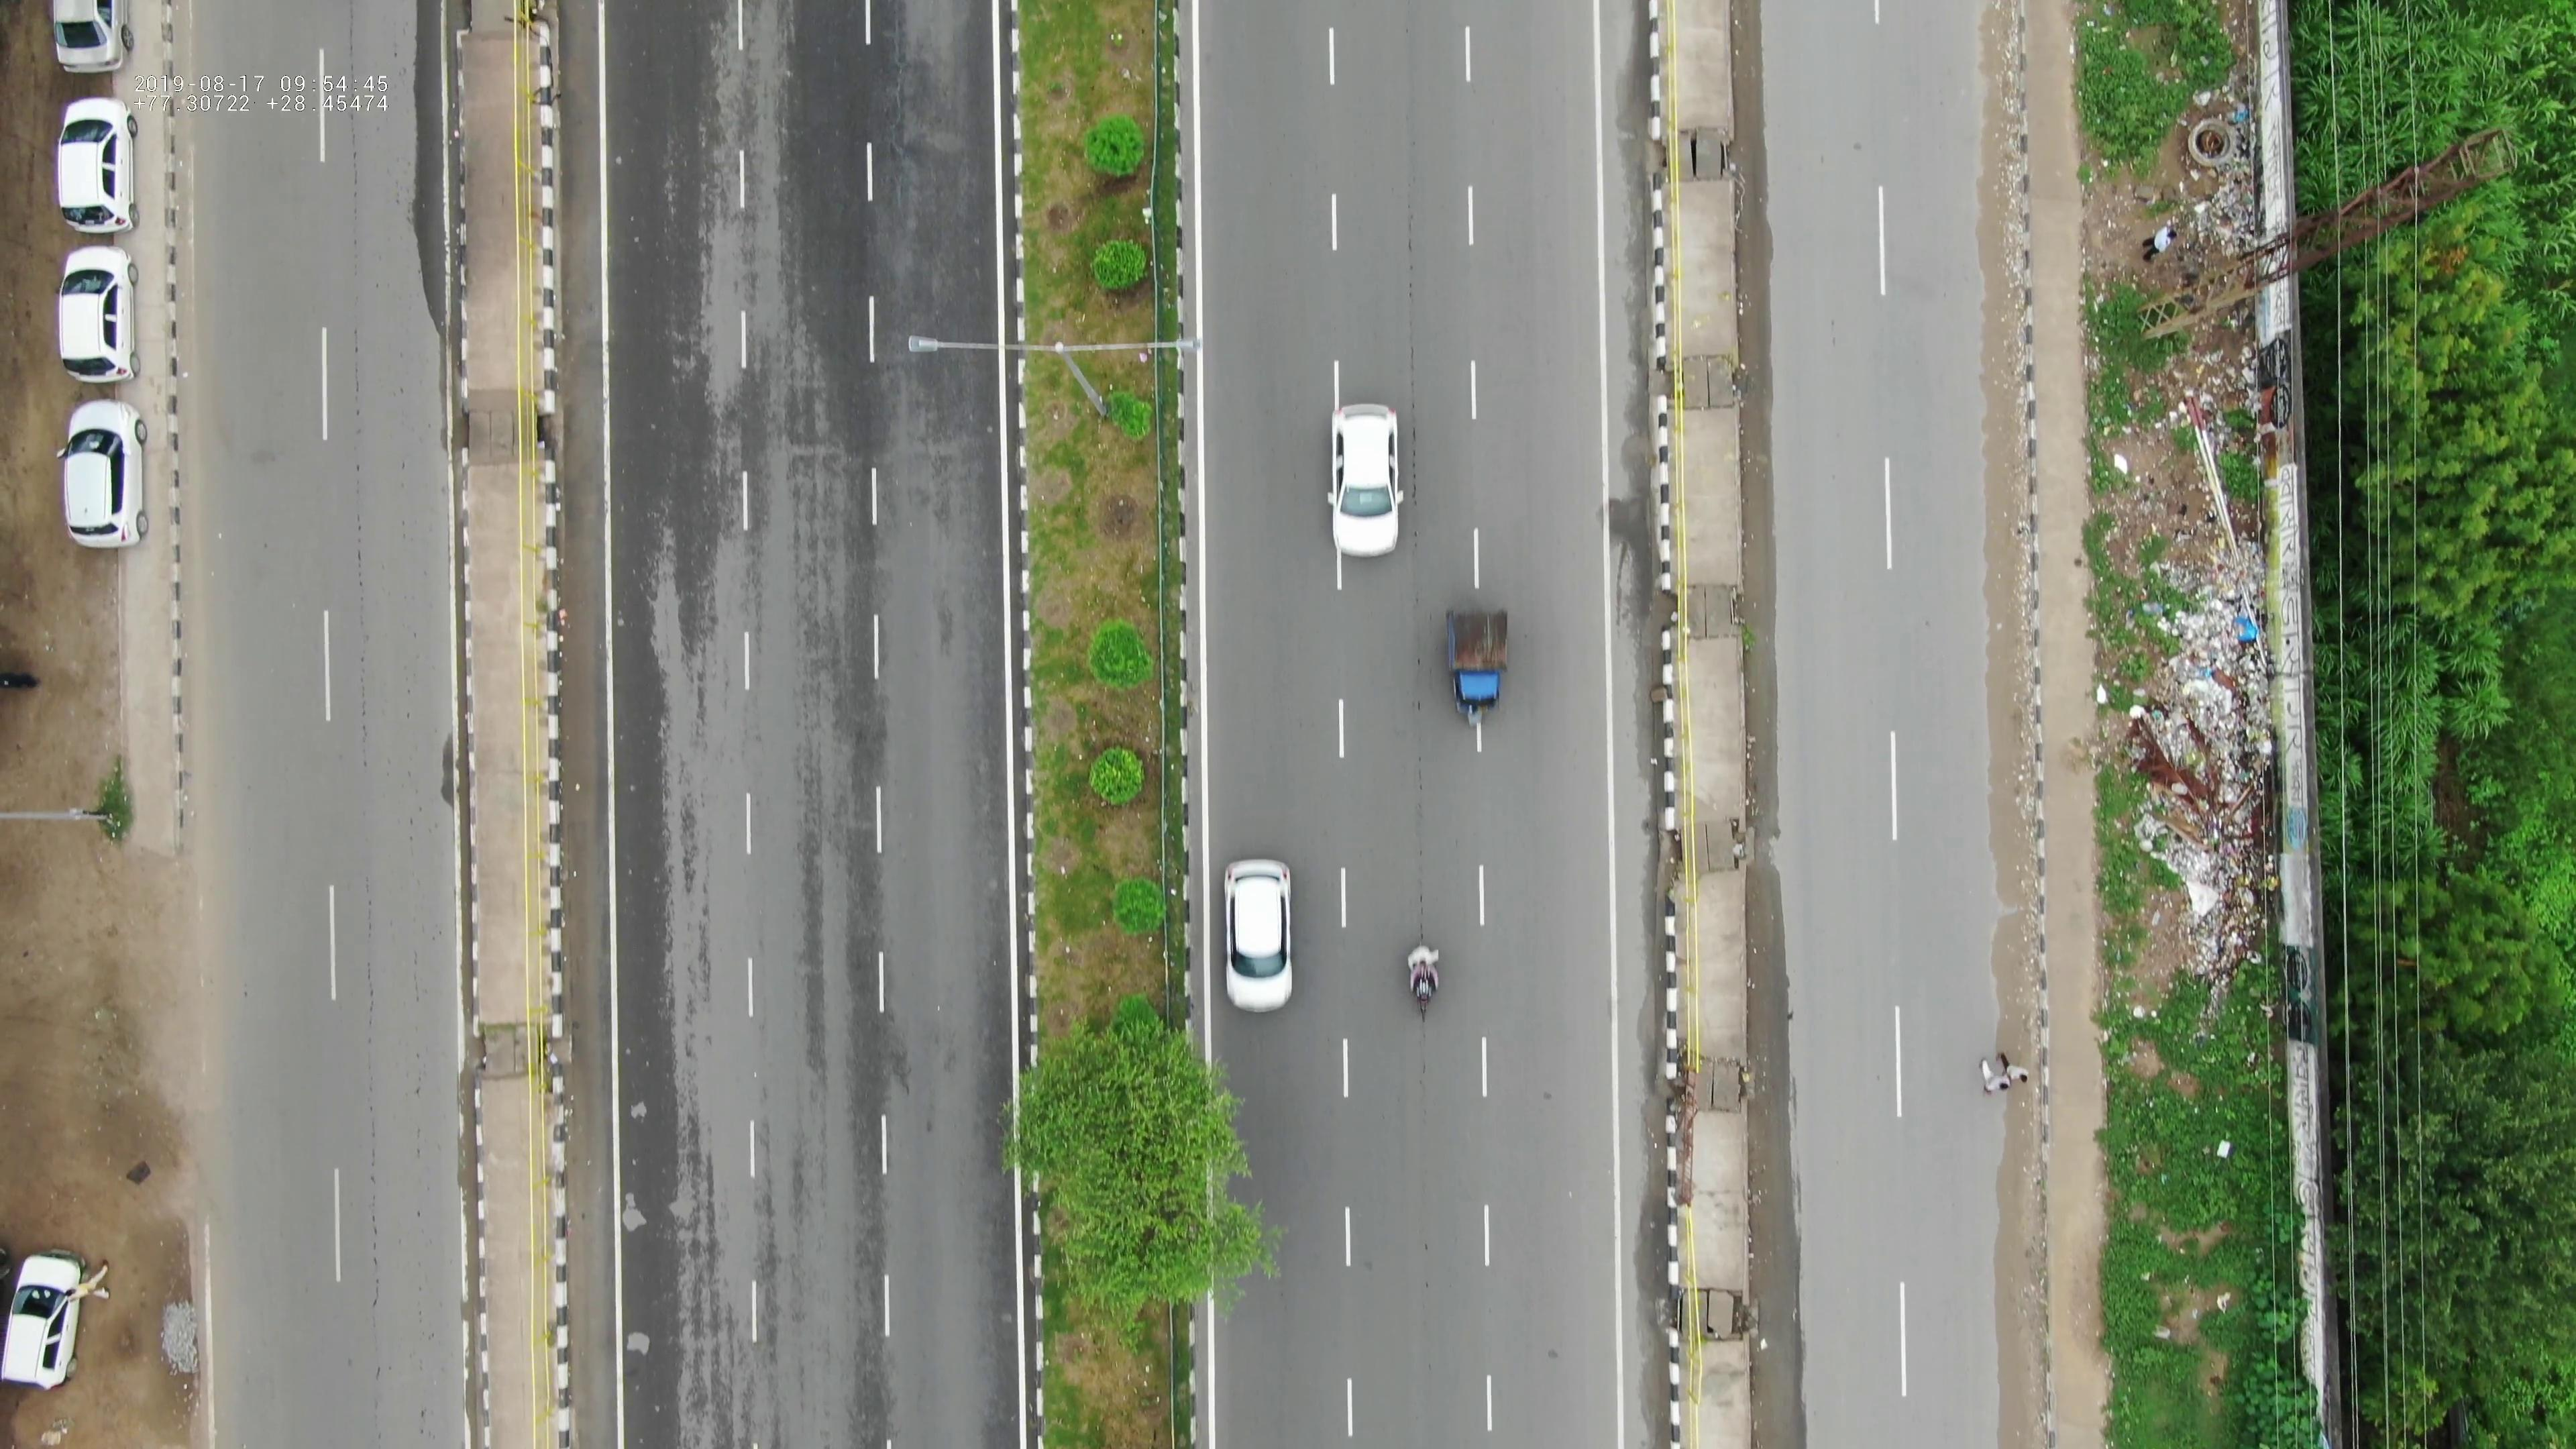Muddy_road: (1974, 16, 2047, 1023), (1992, 1125, 2049, 1442)
Road_side_garbage: (2100, 534, 2281, 961)
